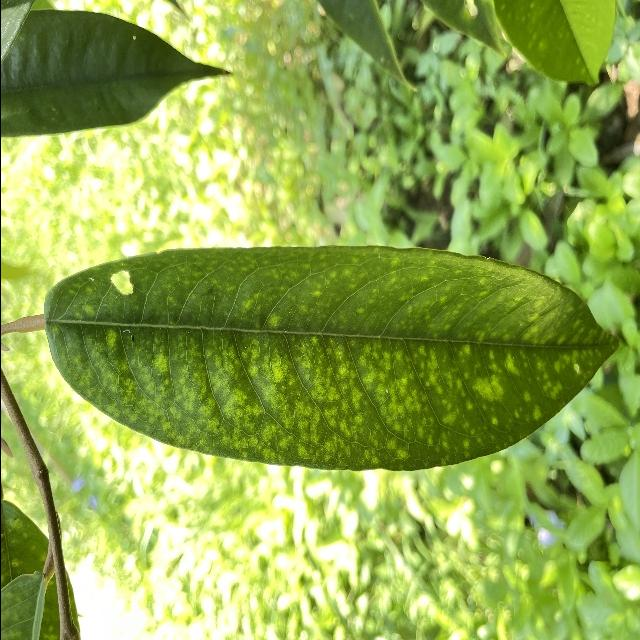Leaf Spot: (39, 239, 628, 482)
